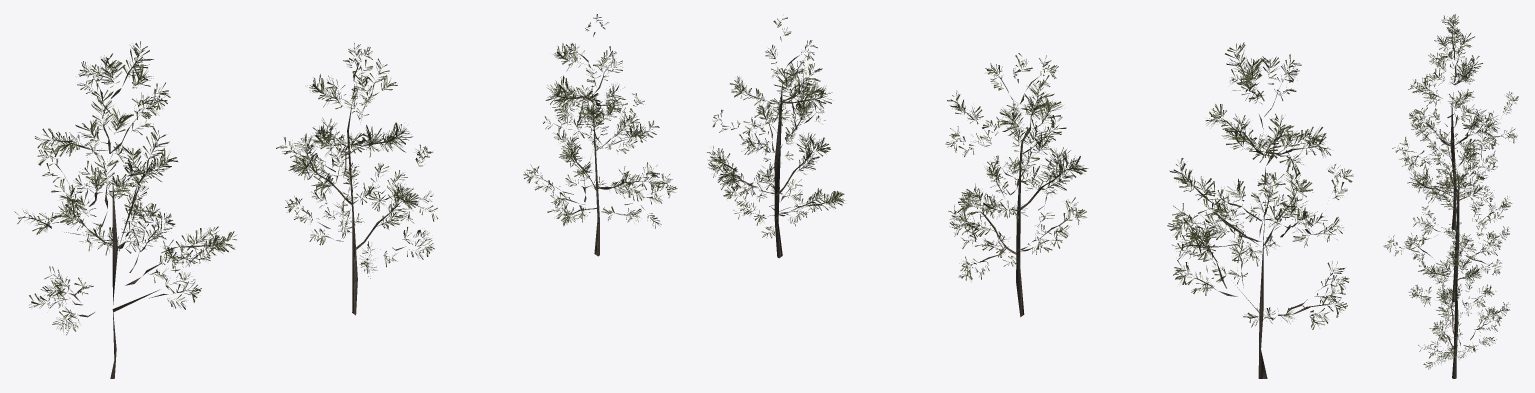
The model's file is pine_sapling_small.glb.
3 views of the same model, side by side, from view 1: azimuth 30°, elevation 25°; view 2: azimuth 150°, elevation 25°; view 3: azimuth 270°, elevation 25° (orthographic). The views are drawn at different scales.
Parts seen in each view (by area): view 1: pine_sapling_small_a, pine_sapling_small_b, pine_sapling_small_c; view 2: pine_sapling_small_a, pine_sapling_small_b, pine_sapling_small_c; view 3: pine_sapling_small_a, pine_sapling_small_b, pine_sapling_small_c.
Boxes of the visible parts, bbox=[...] form: pine_sapling_small_a: bbox=[14, 41, 236, 378]; pine_sapling_small_b: bbox=[276, 43, 437, 315]; pine_sapling_small_c: bbox=[523, 14, 677, 256]; pine_sapling_small_a: bbox=[1167, 42, 1353, 378]; pine_sapling_small_b: bbox=[945, 53, 1088, 317]; pine_sapling_small_c: bbox=[707, 17, 844, 258]; pine_sapling_small_a: bbox=[1392, 14, 1518, 229]; pine_sapling_small_b: bbox=[1383, 133, 1512, 302]; pine_sapling_small_c: bbox=[1409, 223, 1509, 378].
Size of the model in its own units: 2.63 by 1.3 by 0.7677.
2 materials, 2 textured.
